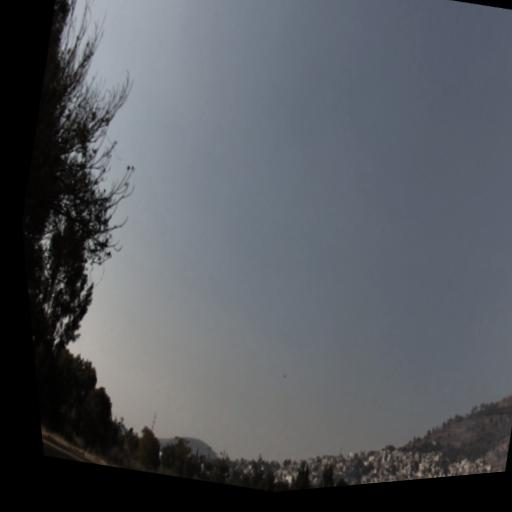drones: (283, 374, 287, 379)
